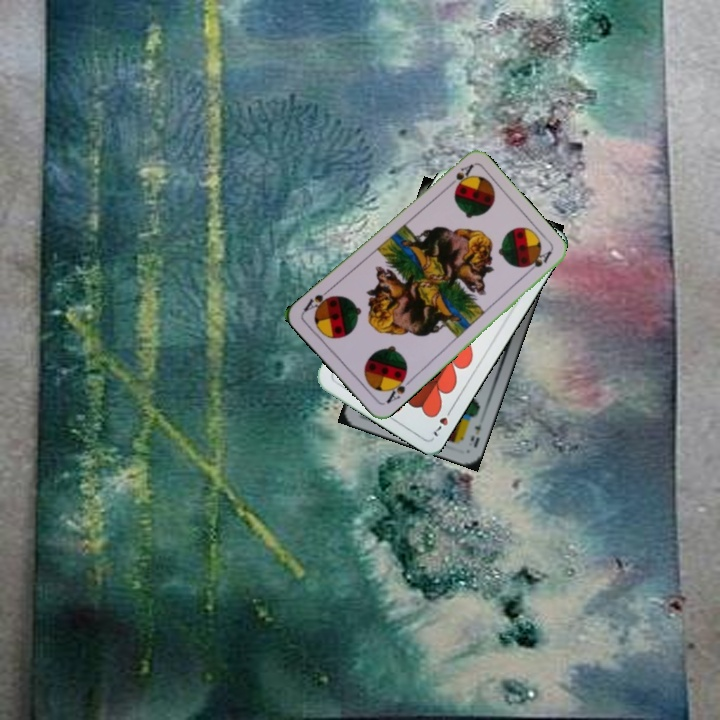EK: (466, 413, 487, 450)
H7: (429, 403, 455, 439)
SA: (382, 371, 414, 406), (442, 160, 476, 192)
